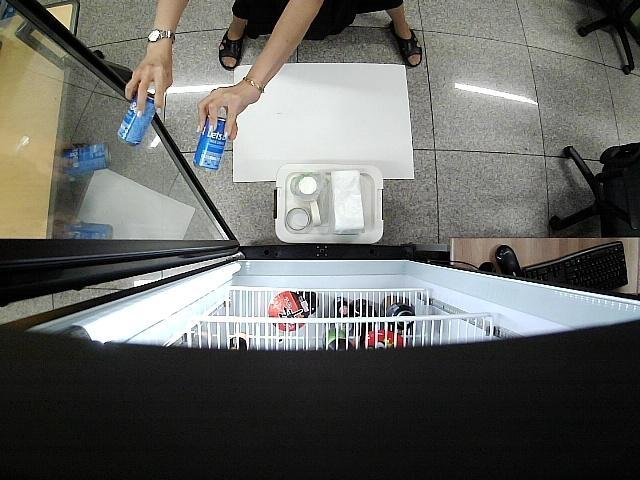15_letsbe: (119, 90, 156, 148), (194, 118, 228, 172)
